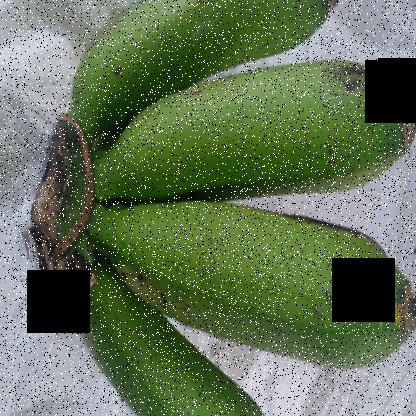unripe: (105, 181, 415, 376), (60, 1, 388, 126), (96, 85, 416, 206), (58, 276, 269, 416)
